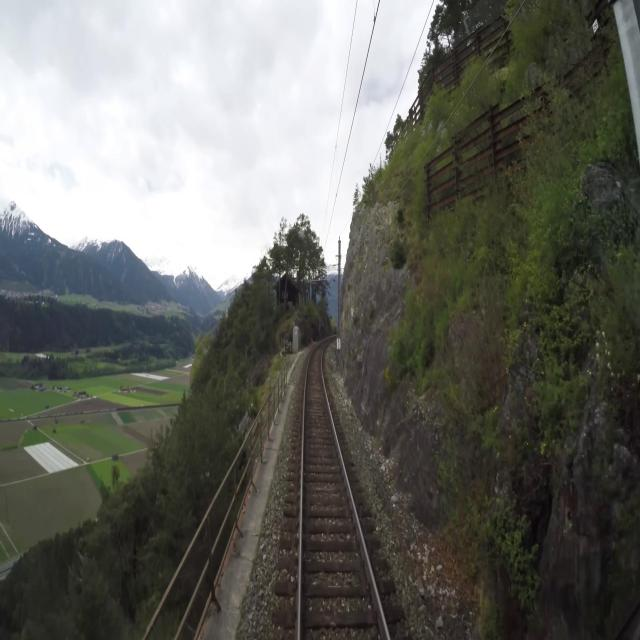rail-track: (302, 343, 385, 639)
